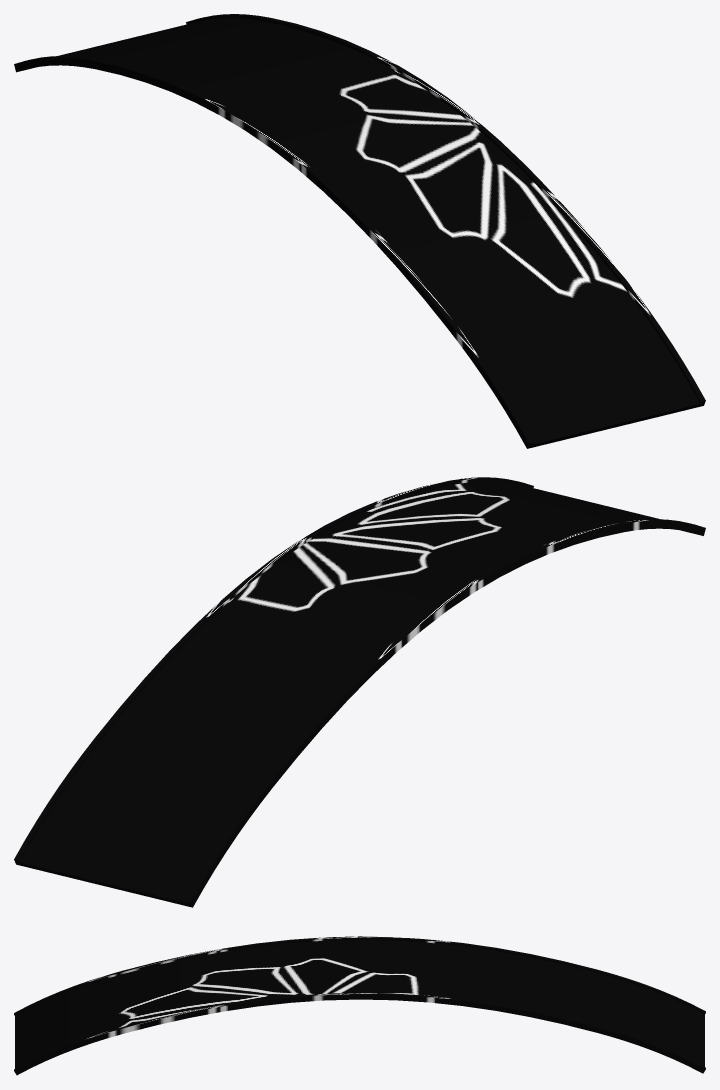
The picture shows the model from 3 angles, top to bottom: view 1: azimuth 30°, elevation 25°; view 2: azimuth 150°, elevation 25°; view 3: azimuth 270°, elevation 25°; orthographic projection. The views are drawn at different scales.
Visible parts, largest first — view 1: 9; view 2: 9; view 3: 9.
Part boxes in pixels (x1,y1,x2,y2): 9: (14, 14, 705, 448); 9: (14, 477, 705, 907); 9: (14, 936, 705, 1075).
Size of the model in its own units: 1800 by 9088 by 1176.
